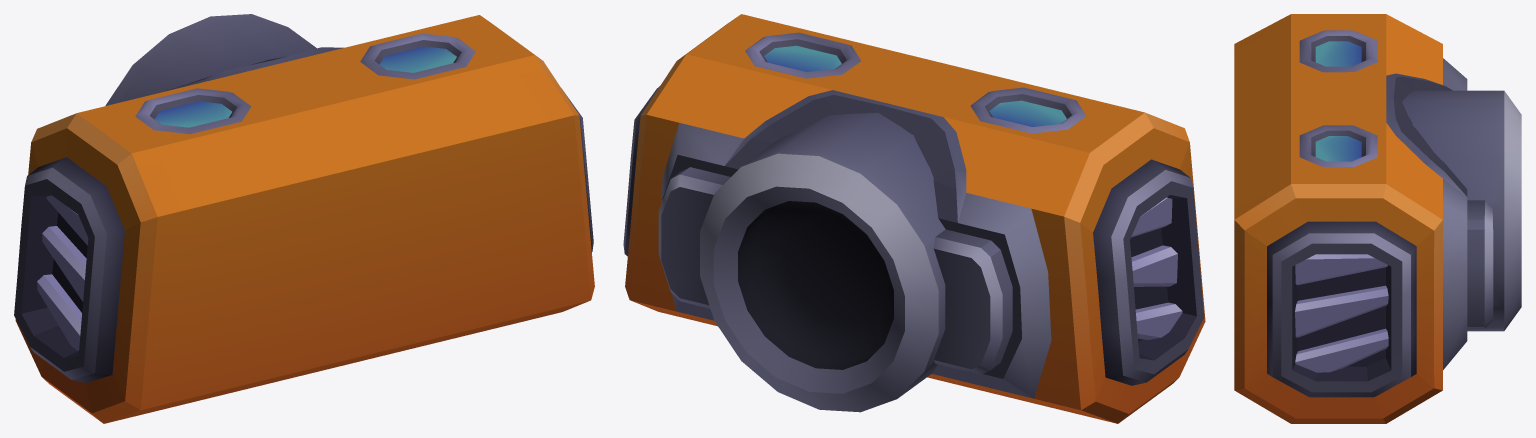
The model's file is SM_Ventilation_01.fbx.
3 renders of one model, left to right at view 1: azimuth 30°, elevation 25°; view 2: azimuth 150°, elevation 25°; view 3: azimuth 270°, elevation 25°, orthographic. The views are drawn at different scales.
Visible parts, largest first — view 1: SM_Ventilation_01; view 2: SM_Ventilation_01; view 3: SM_Ventilation_01.
Boxes of the visible parts, x1,y1,x2,y2 form: SM_Ventilation_01: [14, 14, 594, 423]; SM_Ventilation_01: [623, 14, 1205, 423]; SM_Ventilation_01: [1234, 14, 1521, 423].
Bounding box in the file's own units: 8.98 × 4.47 × 5.02.
